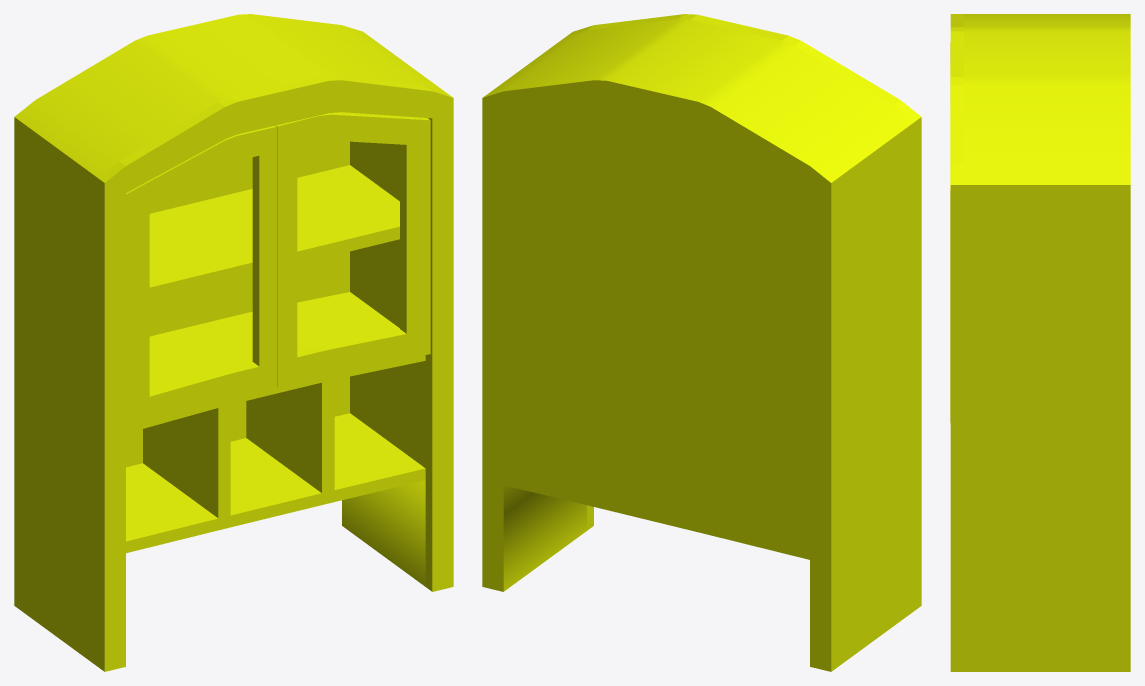
File: MirrorBoard2.FBX
3 views of the same model, side by side, from view 1: azimuth 30°, elevation 25°; view 2: azimuth 150°, elevation 25°; view 3: azimuth 270°, elevation 25° (orthographic).
Parts seen in each view (by area): view 1: Box007; view 2: Box007; view 3: Box007.
Boxes of the visible parts, box(x1,y1,x2,y2) form: Box007: box(14, 14, 453, 671); Box007: box(482, 14, 921, 671); Box007: box(950, 14, 1130, 671).
Bounding box in the file's own units: 1.04 × 1.53 × 0.4669.
